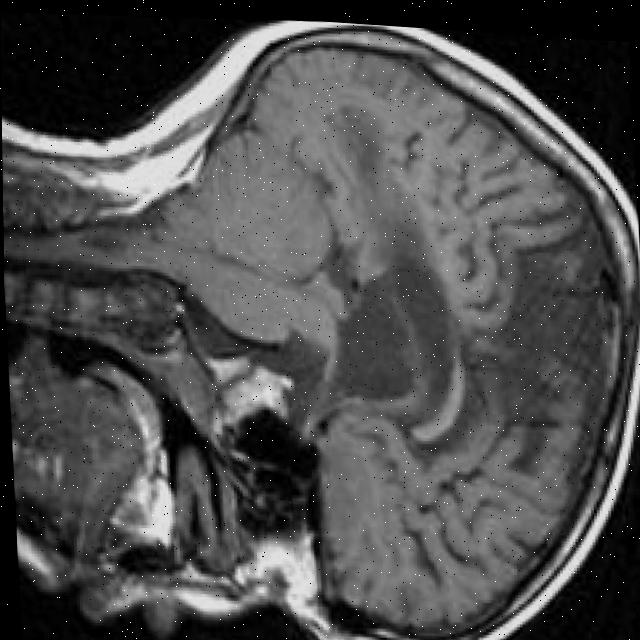NoTumor: (138, 9, 640, 640)
